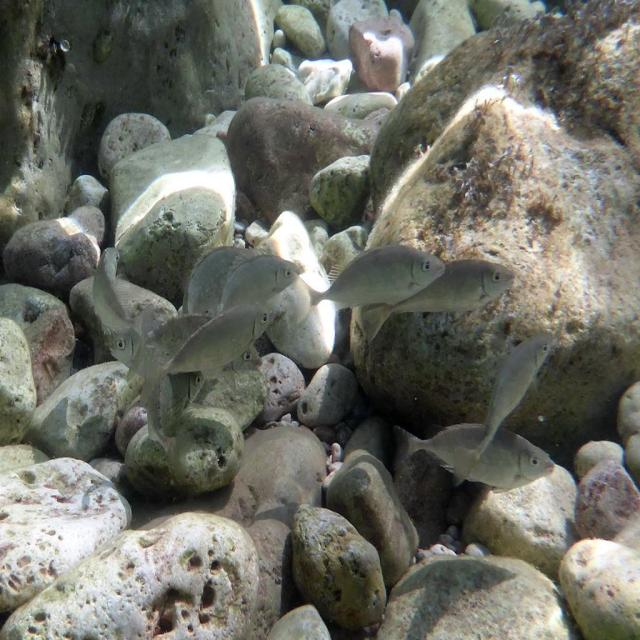Sokar Baligi: (302, 238, 449, 325)
